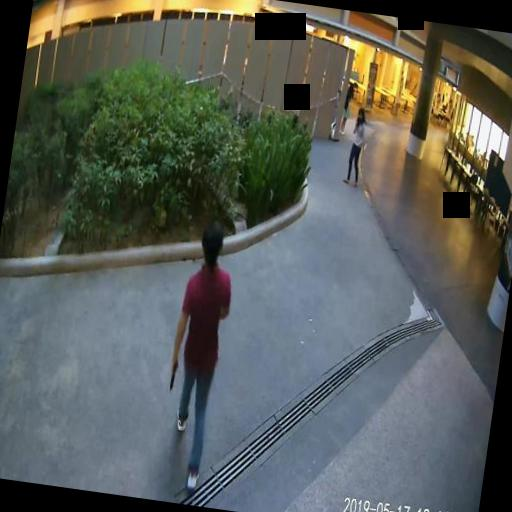Handgun: (166, 358, 178, 390)
